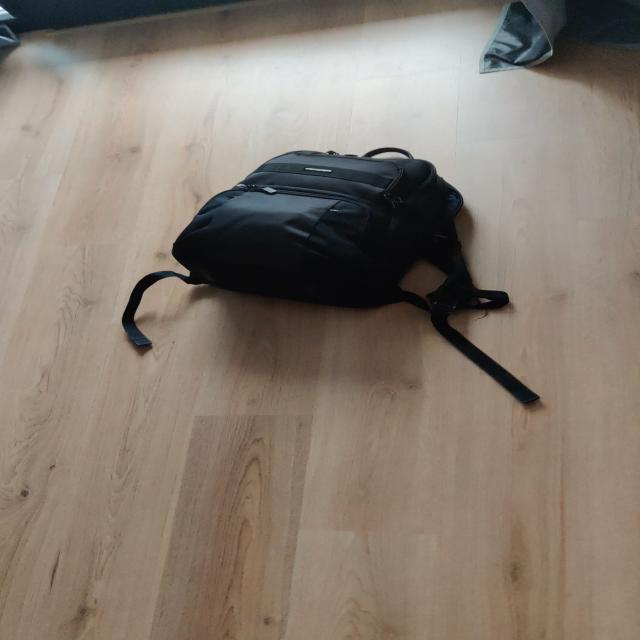backpack: (164, 140, 479, 314)
